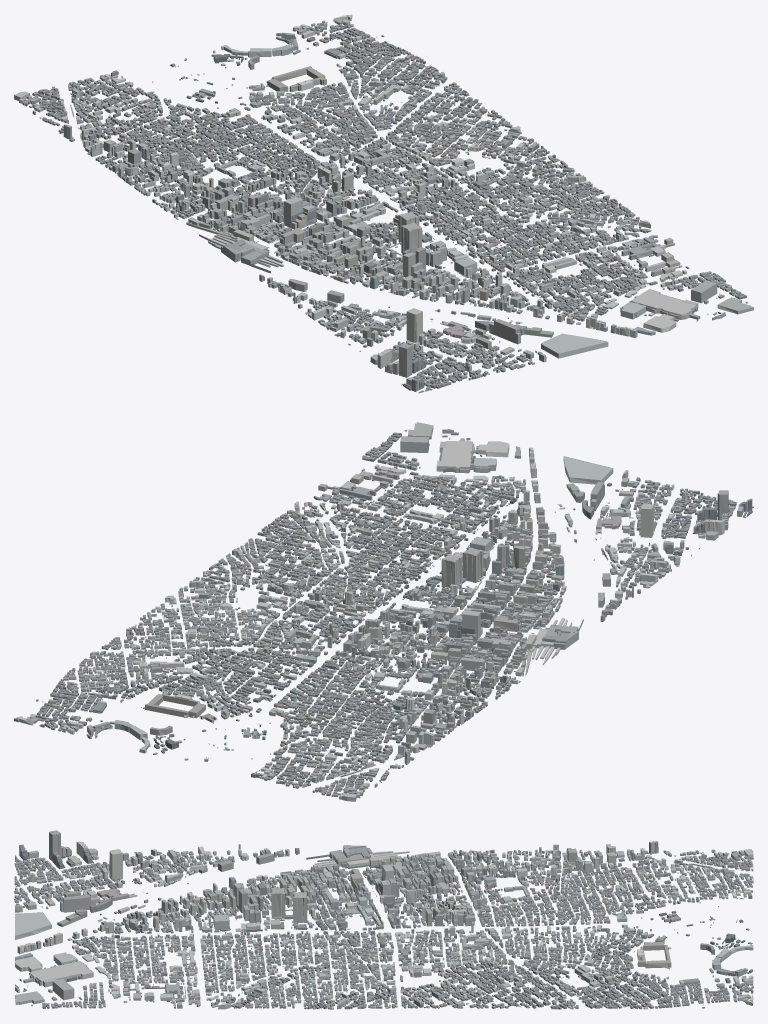
Rendered from buildings_lite.glb.
The picture shows the model from 3 angles, top to bottom: view 1: azimuth 30°, elevation 25°; view 2: azimuth 150°, elevation 25°; view 3: azimuth 270°, elevation 25°; orthographic projection. The views are drawn at different scales.
Size of the model in its own units: 1359 by 119 by 2714.
